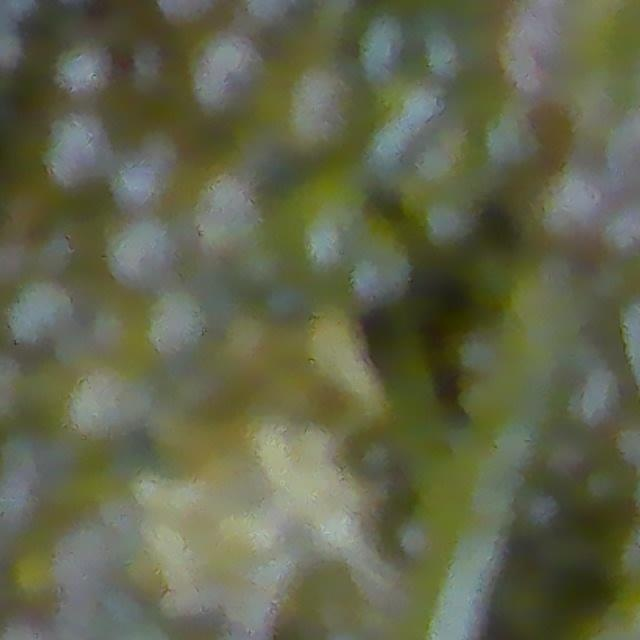SeaGrape: (271, 165, 375, 281), (181, 30, 262, 115), (39, 109, 112, 188), (104, 214, 177, 288), (140, 286, 209, 360), (348, 233, 414, 308), (7, 277, 74, 343), (419, 190, 478, 251)
